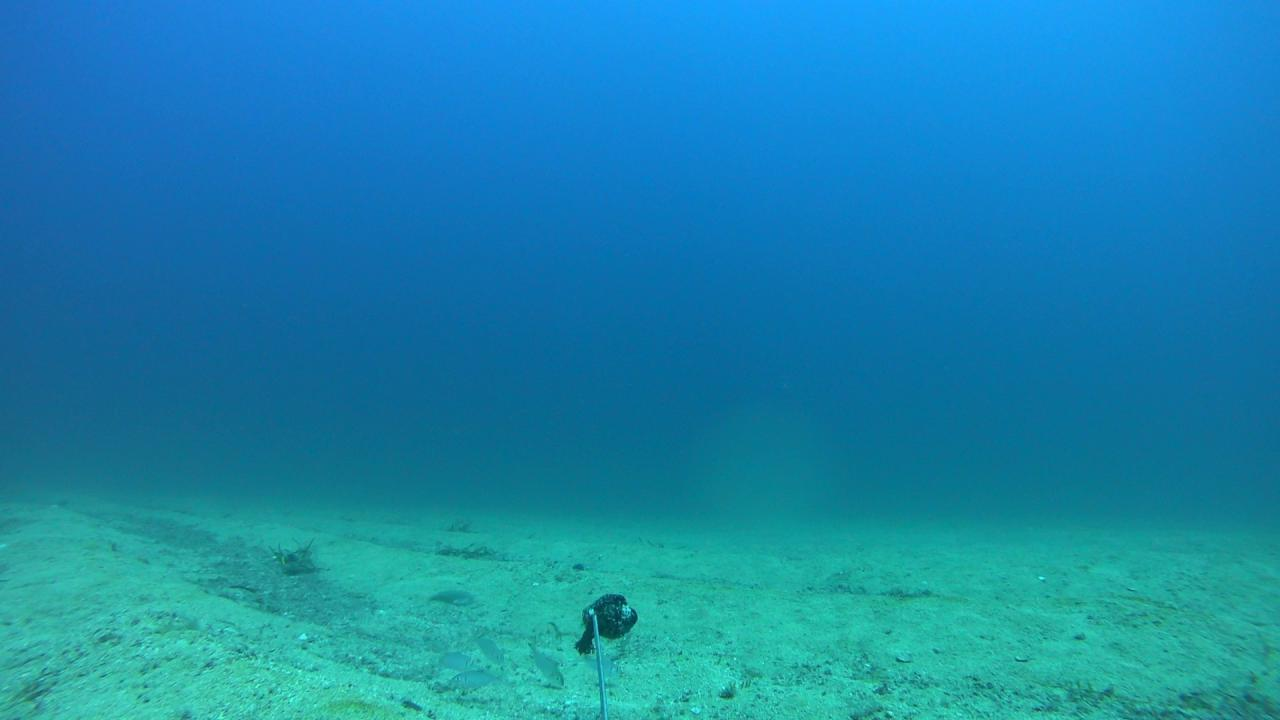pagellus: (524, 643, 569, 688), (466, 633, 509, 668), (445, 668, 509, 688), (585, 657, 626, 680)
